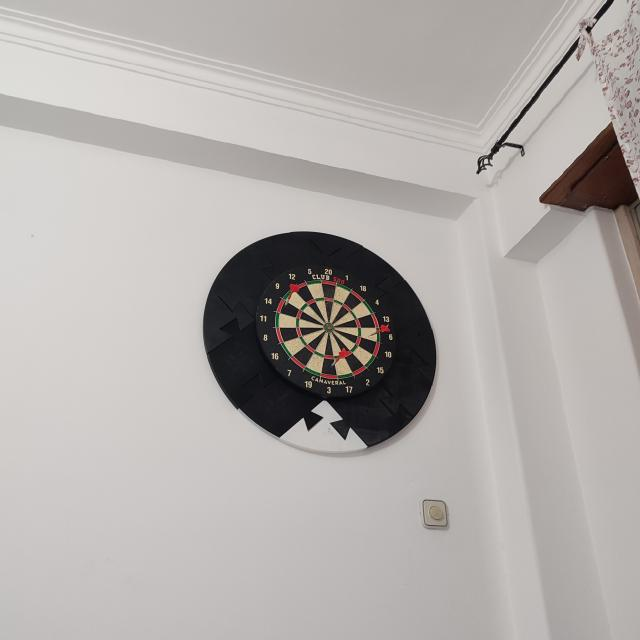dart: (330, 347, 350, 368), (330, 348, 350, 368), (284, 283, 299, 307), (284, 284, 299, 308), (368, 324, 390, 337), (368, 324, 390, 336)
